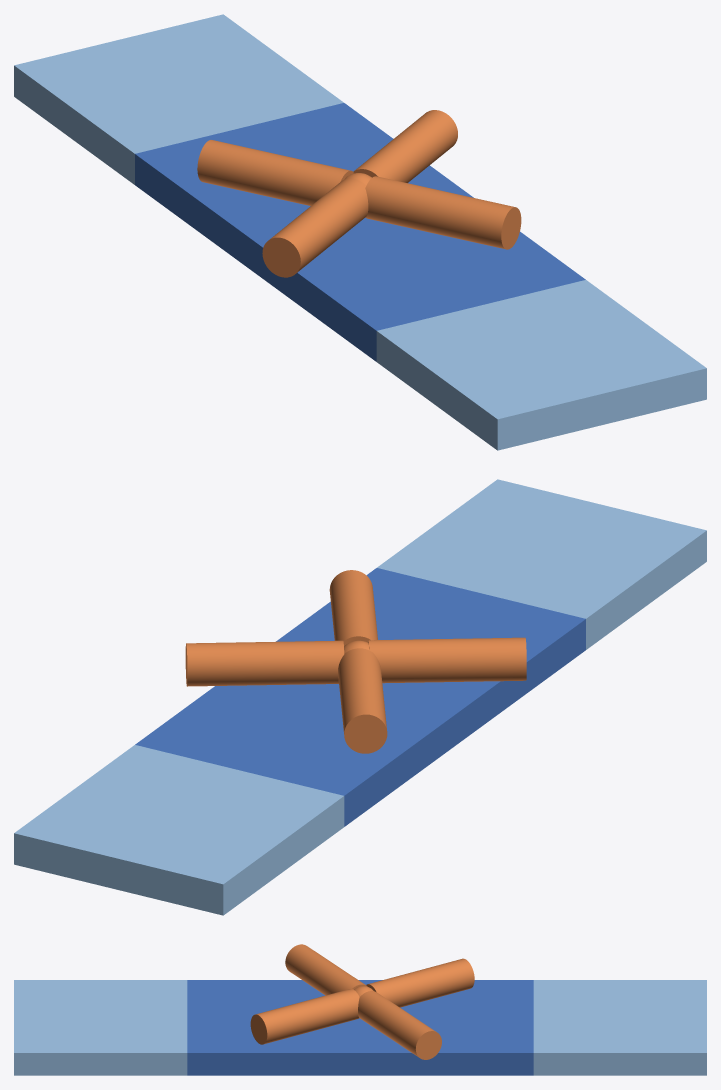
File: crossRotate1.fbx
3 views of the same model, one above another, from view 1: azimuth 30°, elevation 25°; view 2: azimuth 150°, elevation 25°; view 3: azimuth 270°, elevation 25° (orthographic). The views are drawn at different scales.
Parts seen in each view (by area): view 1: floor, wood; view 2: floor, wood; view 3: floor, wood.
Boxes of the visible parts, bbox=[...] form: floor: bbox=[14, 14, 706, 450]; wood: bbox=[197, 110, 521, 277]; floor: bbox=[14, 479, 706, 915]; wood: bbox=[185, 570, 526, 753]; floor: bbox=[14, 980, 706, 1075]; wood: bbox=[250, 944, 474, 1059].
Bounding box in the file's own units: 449 × 115 × 1400.
